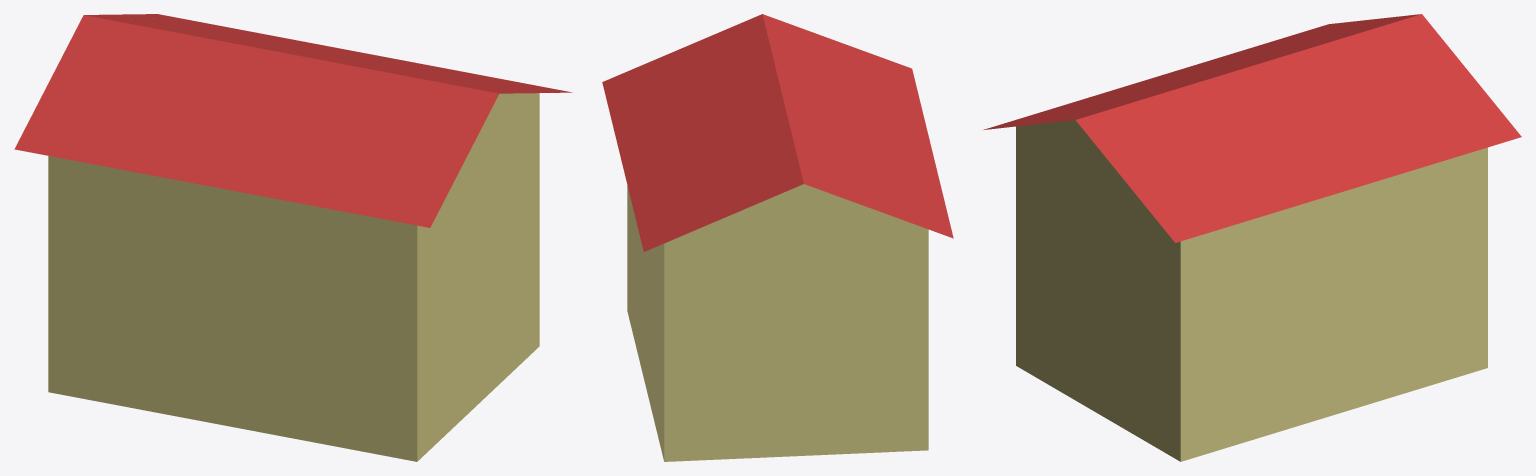
3 views of the same model, side by side, from view 1: azimuth 30°, elevation 25°; view 2: azimuth 150°, elevation 25°; view 3: azimuth 270°, elevation 25° (orthographic). The views are drawn at different scales.
Size of the model in its own units: 10.69 by 11.15 by 6.79.
